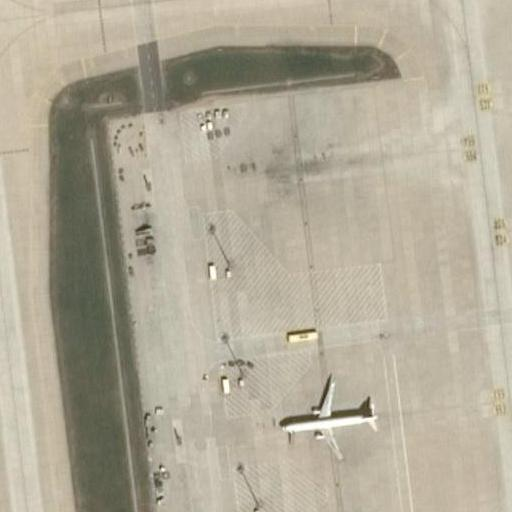Aircraft: (271, 369, 382, 459)
